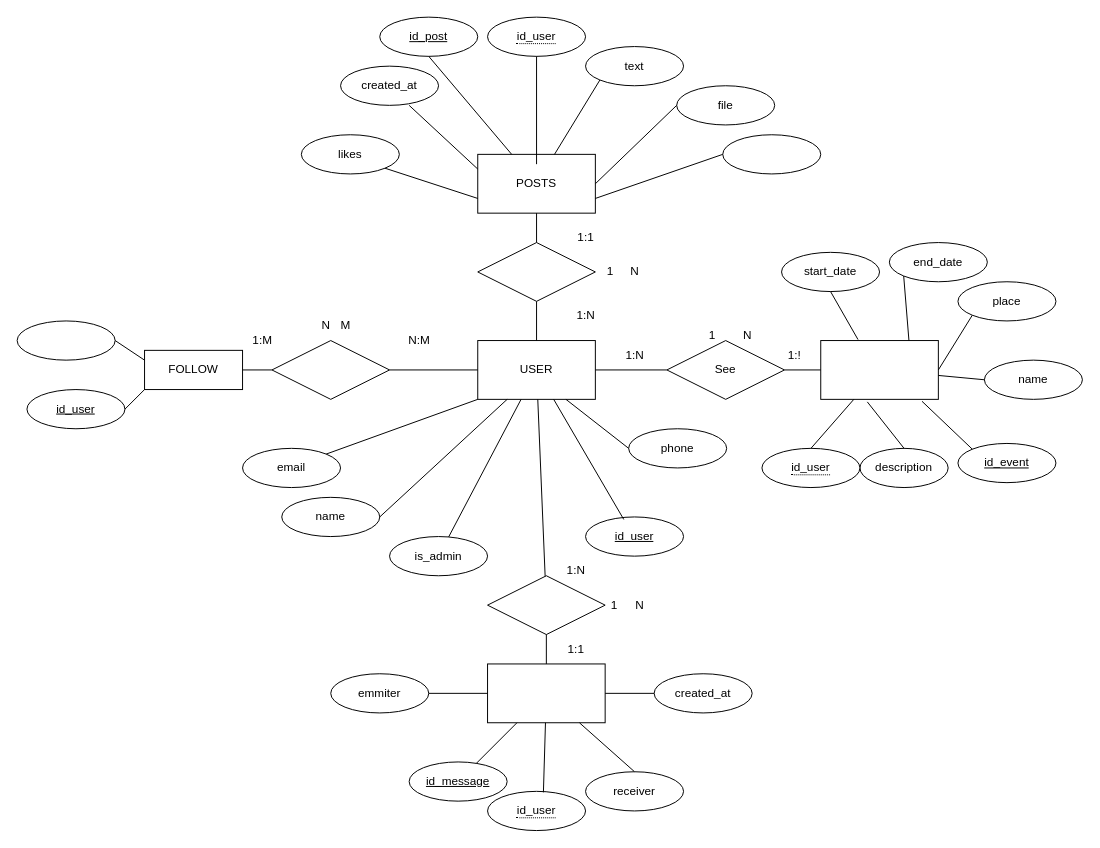
Image size: 1100x848. Some labels were removed from this diagram. Here are the shapes that lost their labels. From the top down, the box of each, then its label:
(722, 134, 821, 174): title
(477, 242, 595, 301): Post
(16, 320, 115, 360): followed
(271, 340, 390, 399): have
(820, 340, 938, 399): EVENT
(487, 575, 605, 635): Send
(487, 663, 605, 723): MESSAGE
